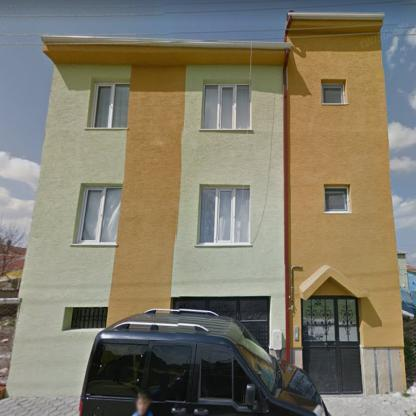door: (300, 296, 360, 392), (172, 297, 269, 351)
window: (200, 188, 250, 244), (77, 186, 121, 244), (202, 83, 250, 129), (90, 82, 130, 127), (71, 308, 107, 329), (325, 187, 350, 211), (323, 85, 344, 104)
